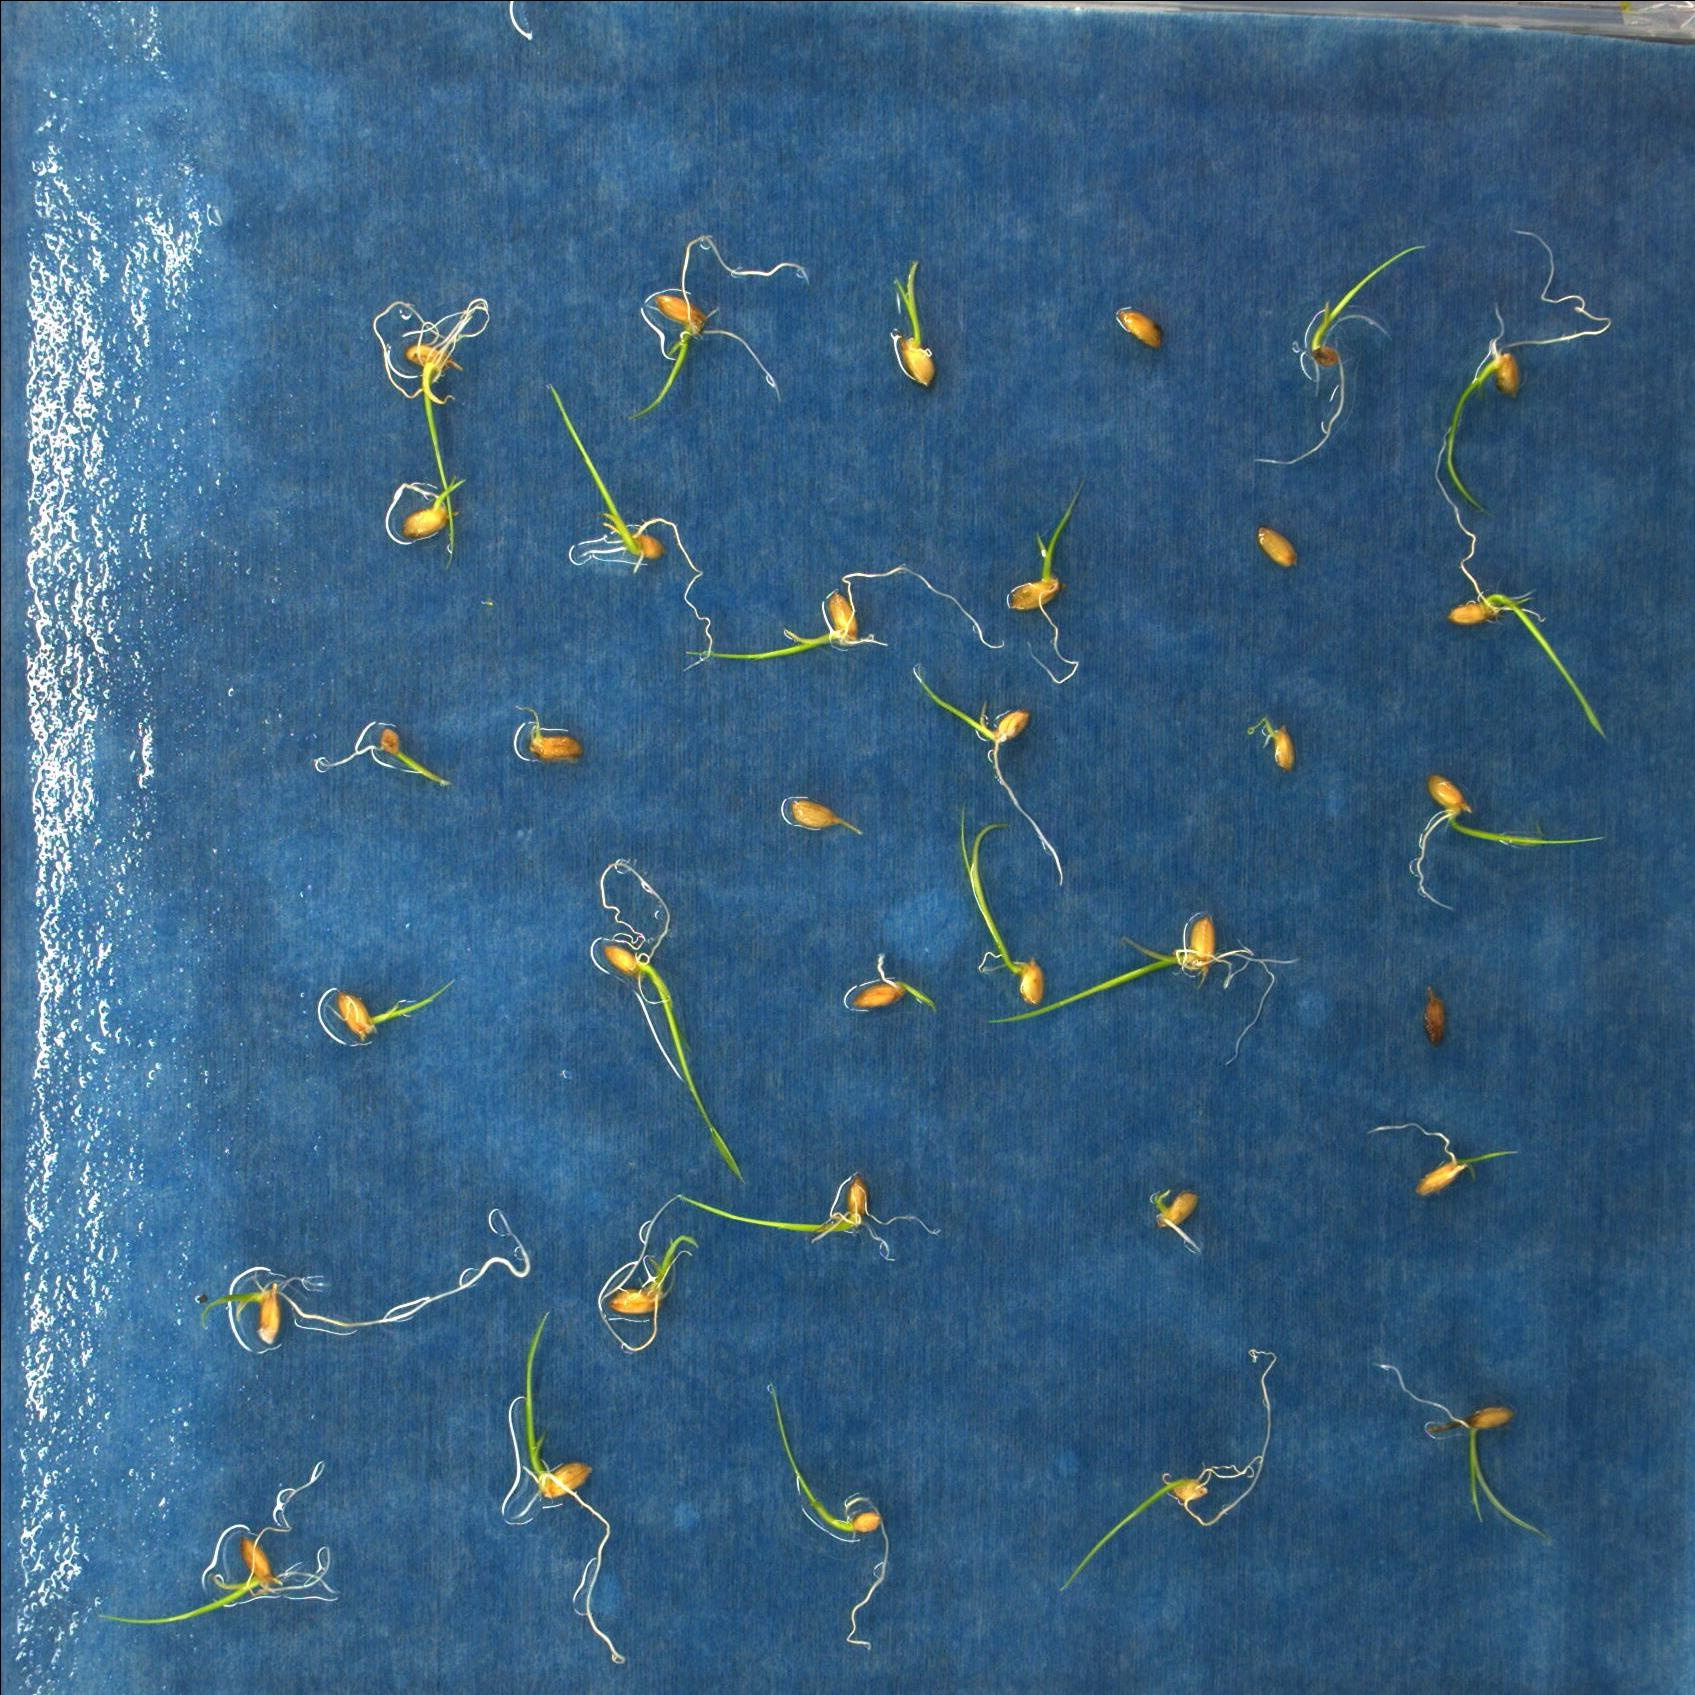not sprout: (1118, 303, 1166, 351), (1253, 523, 1299, 565), (1419, 986, 1448, 1045)
sprout: (1434, 425, 1617, 747), (1059, 1349, 1277, 1594), (598, 858, 751, 1184), (545, 382, 712, 674), (989, 913, 1301, 1066), (1447, 231, 1613, 514), (199, 1205, 532, 1340), (508, 1309, 626, 1662), (1257, 244, 1434, 467), (98, 1462, 340, 1624), (905, 664, 1063, 885), (765, 1381, 893, 1648), (629, 233, 810, 418), (373, 296, 487, 571), (1377, 1364, 1554, 1538), (683, 565, 1009, 657), (1416, 776, 1607, 914), (675, 1177, 942, 1265), (958, 802, 1046, 1004), (599, 1194, 698, 1355), (1003, 477, 1080, 681), (1366, 1125, 1523, 1198), (314, 723, 453, 787), (326, 979, 458, 1035), (891, 255, 941, 386), (852, 951, 941, 1017), (509, 700, 582, 764), (1153, 1186, 1208, 1257), (407, 478, 470, 536), (784, 796, 863, 840), (1240, 719, 1295, 773)
